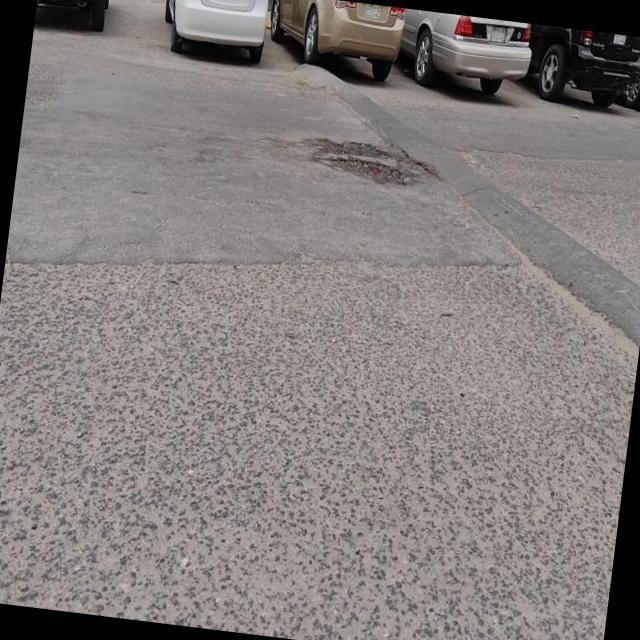Pothole: (313, 137, 407, 186)
